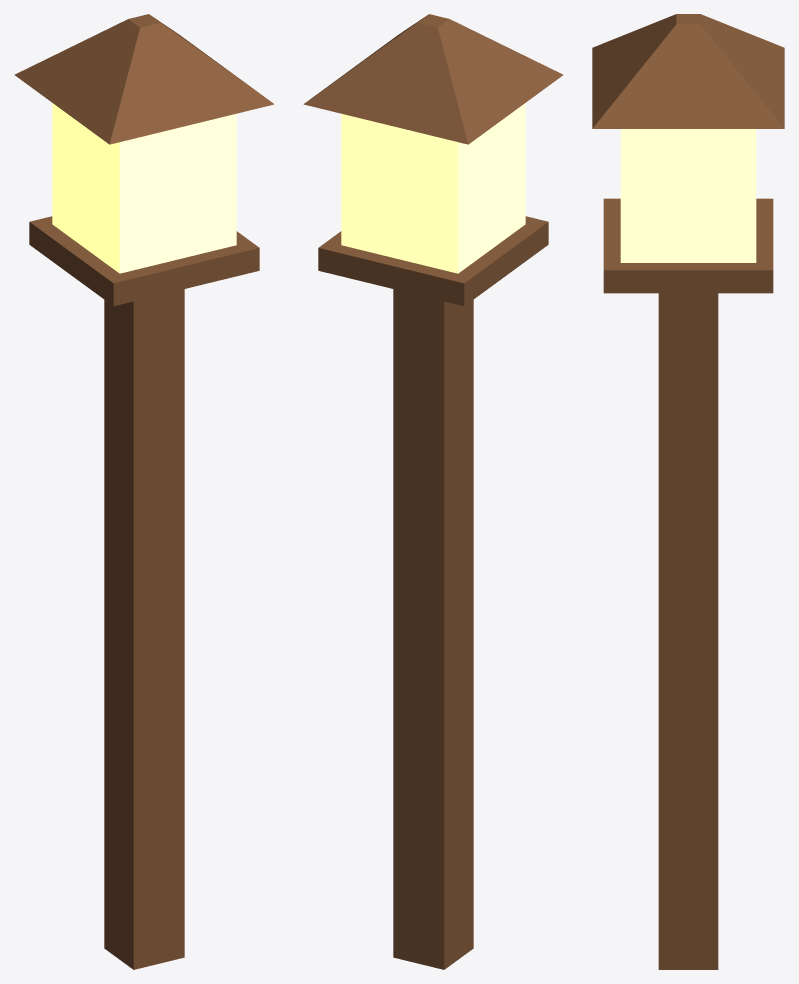
Rendered from lantern_wood.glb.
The picture shows the model from 3 angles, left to right: view 1: azimuth 30°, elevation 25°; view 2: azimuth 150°, elevation 25°; view 3: azimuth 270°, elevation 25°; orthographic projection.
Visible parts, largest first — view 1: lantern_wood; view 2: lantern_wood; view 3: lantern_wood.
Boxes of the visible parts, left/top/right/bottom form: lantern_wood: left=14, top=14, right=274, bottom=969; lantern_wood: left=303, top=14, right=563, bottom=969; lantern_wood: left=592, top=14, right=784, bottom=969.
Bounding box in the file's own units: 0.4525 × 2.44 × 0.4525.
